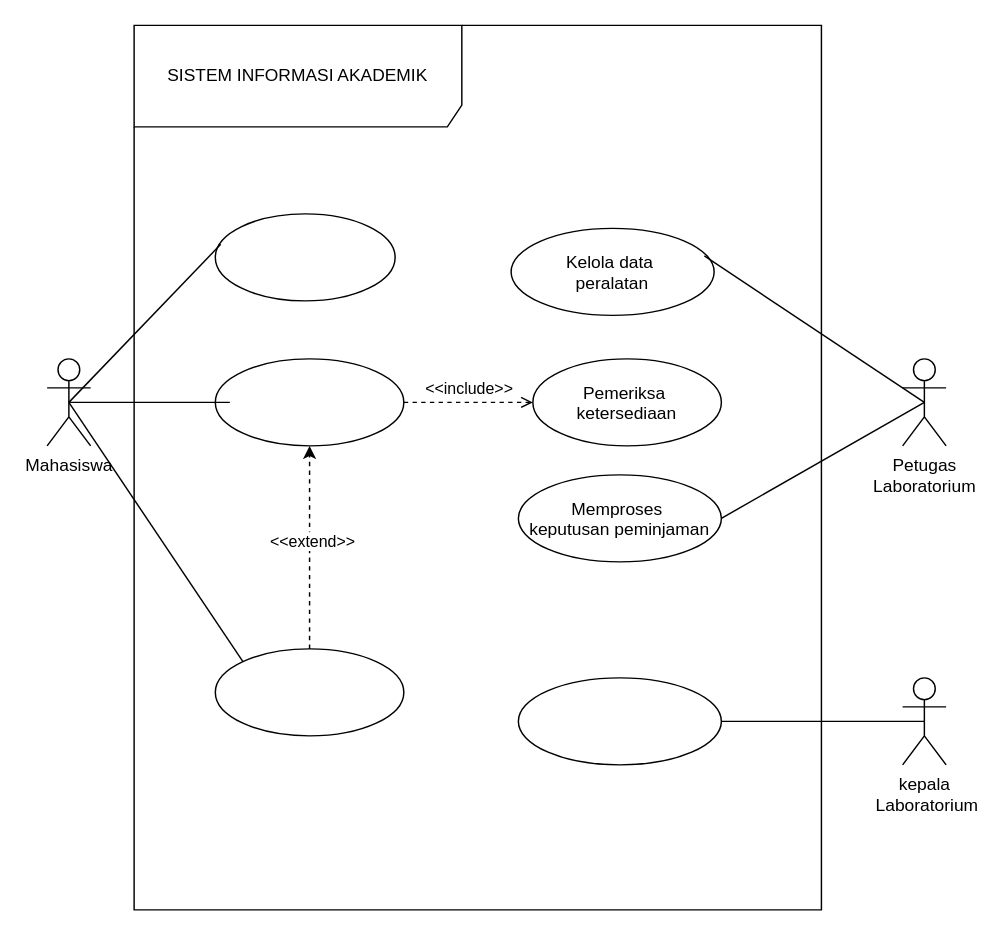
The diagram is 1002 pixels wide and 935 high, and some of its shapes have lost their labels. Each missing label, with the box of its shape:
Ajukan Peminjaman: (214, 357, 404, 446)
Cetak bukti pengajuan: (214, 647, 404, 736)
Lihat jadwal kuliah: (214, 212, 395, 301)
Melihat laporan peminjaman: (517, 676, 721, 765)
